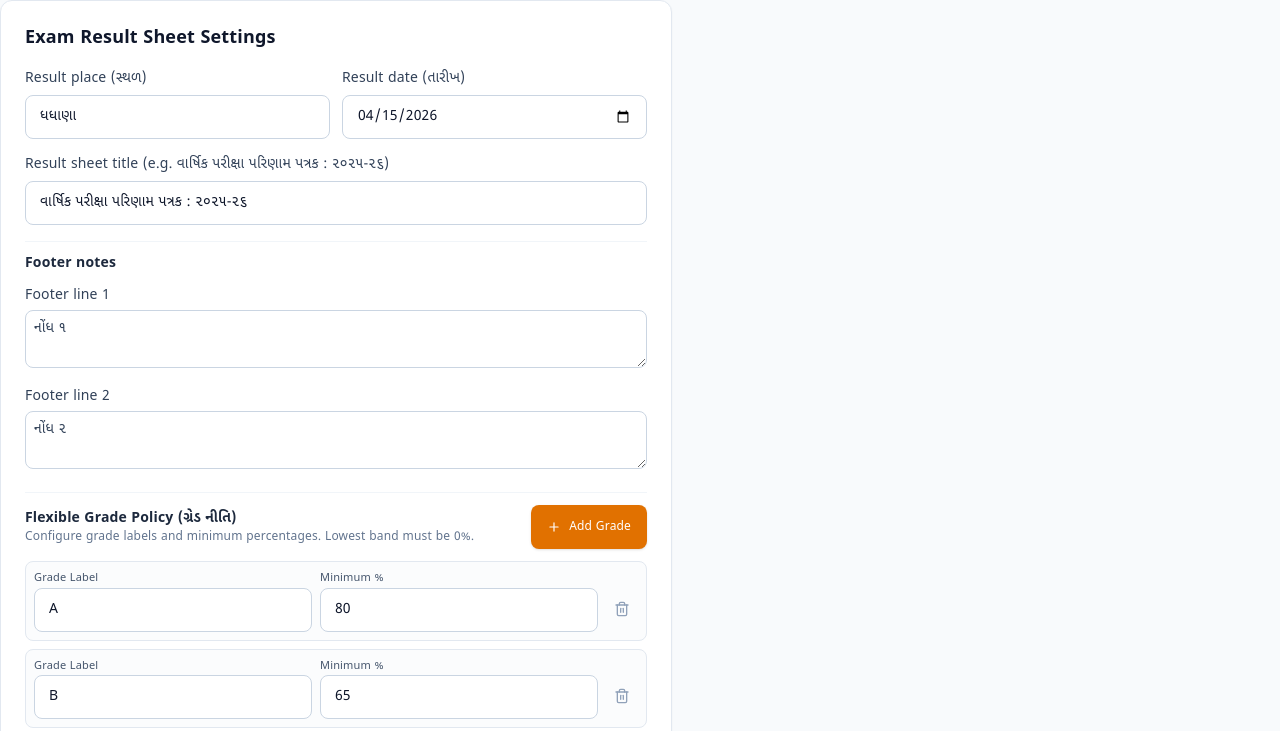
Test case: AdminResultPresentationSettings - Flexible Grade Policy › allows adding a new grade band
What coordinates should you click on to do the following:
click the button "Add Grade"
I would click on:
 (589, 527)
Its box is [531,505,647,549].
(page scrolled)
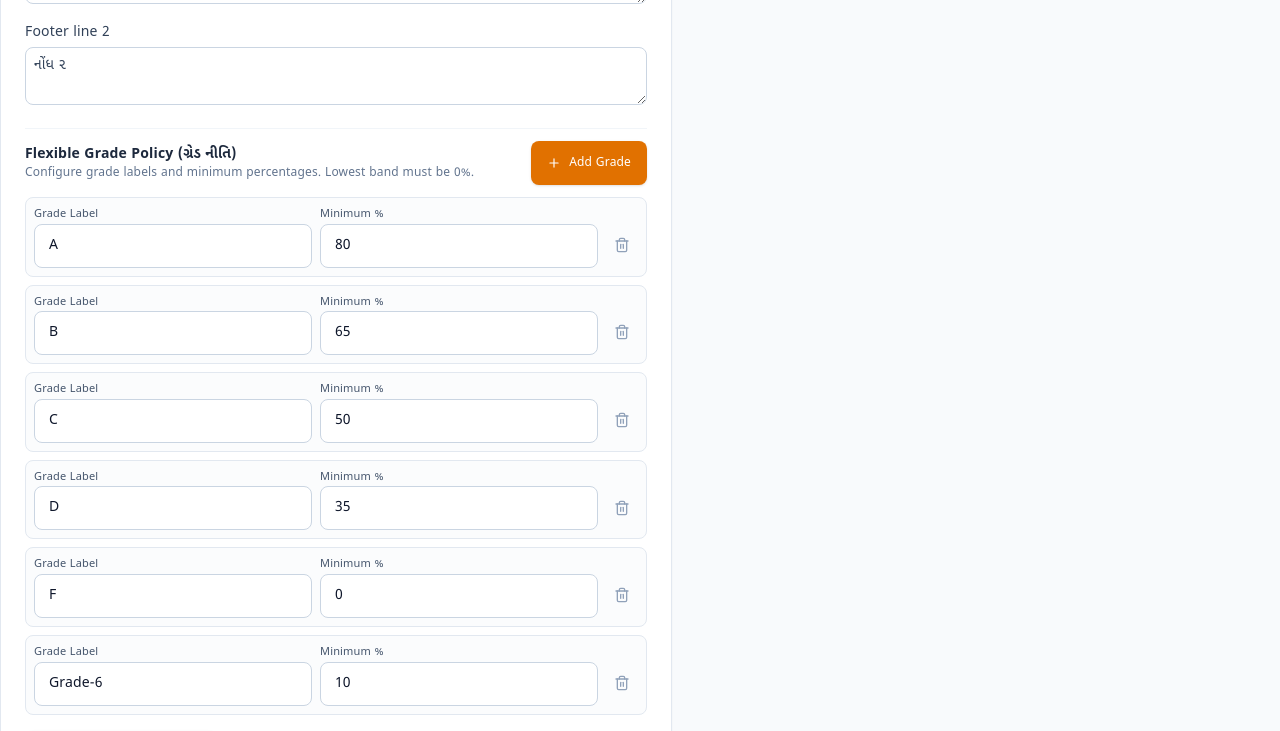
Check: the 6th field showing "Grade-6" is shown, box [34,662,312,706]
